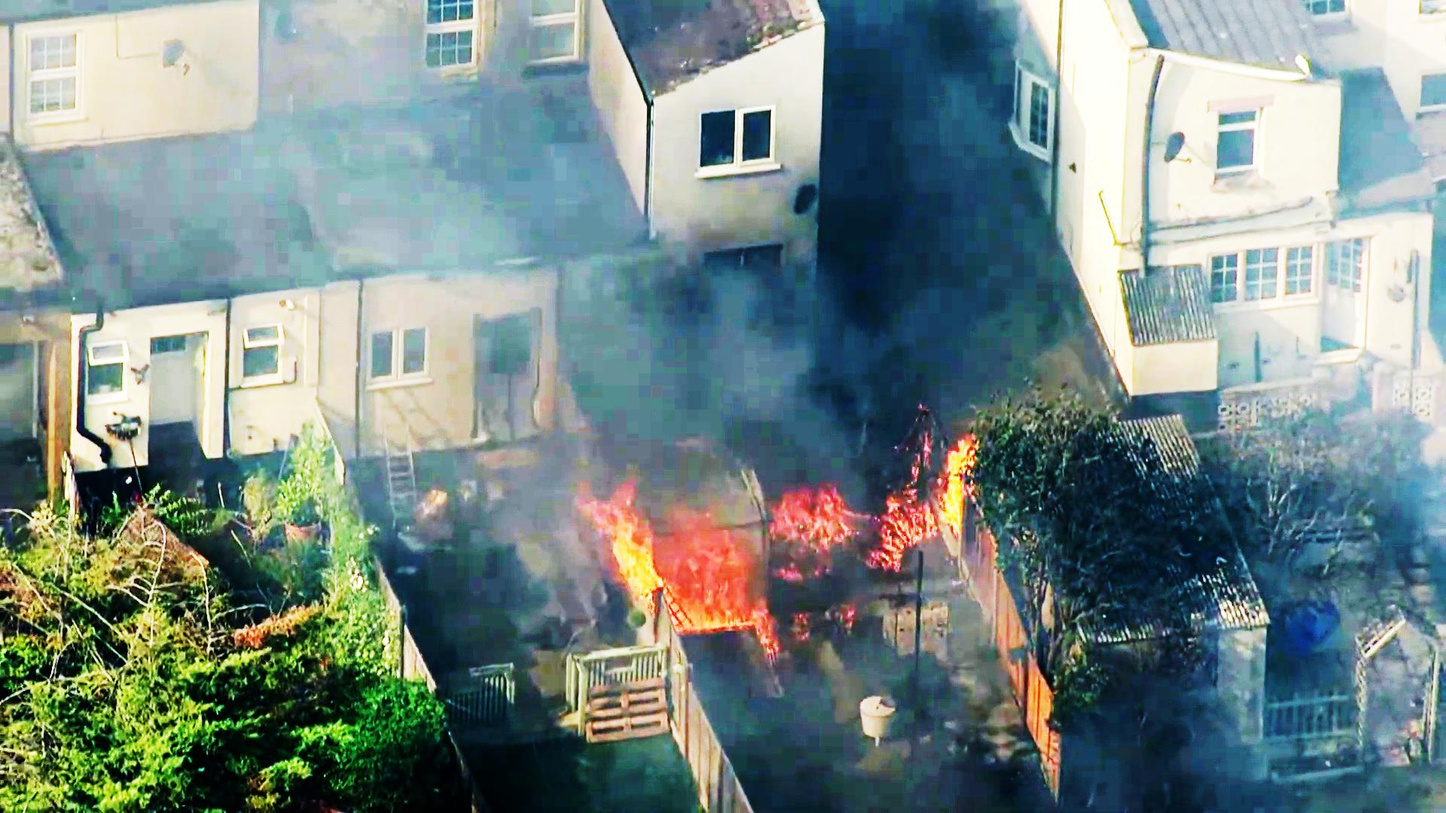fire: (578, 416, 1015, 652)
